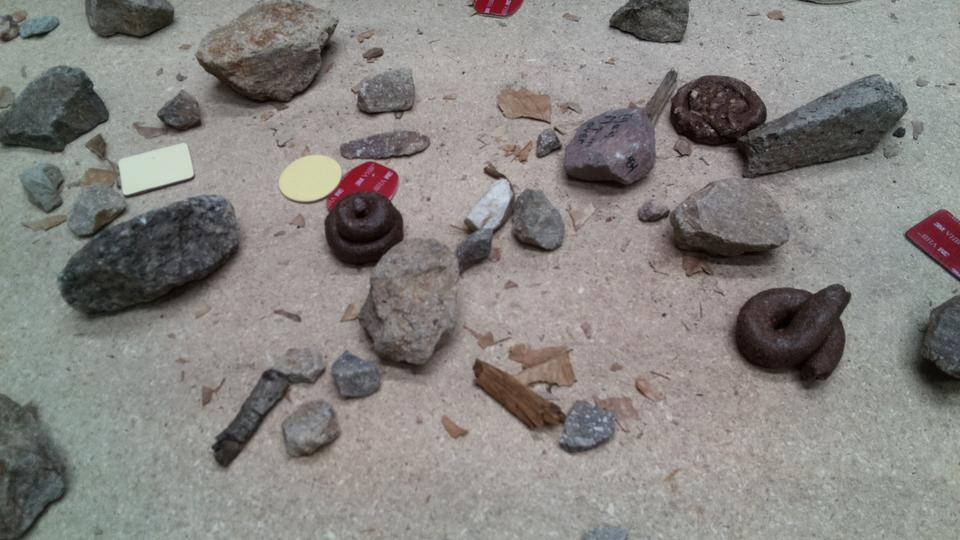poop: (732, 278, 855, 387), (669, 74, 769, 146), (322, 188, 409, 270)
